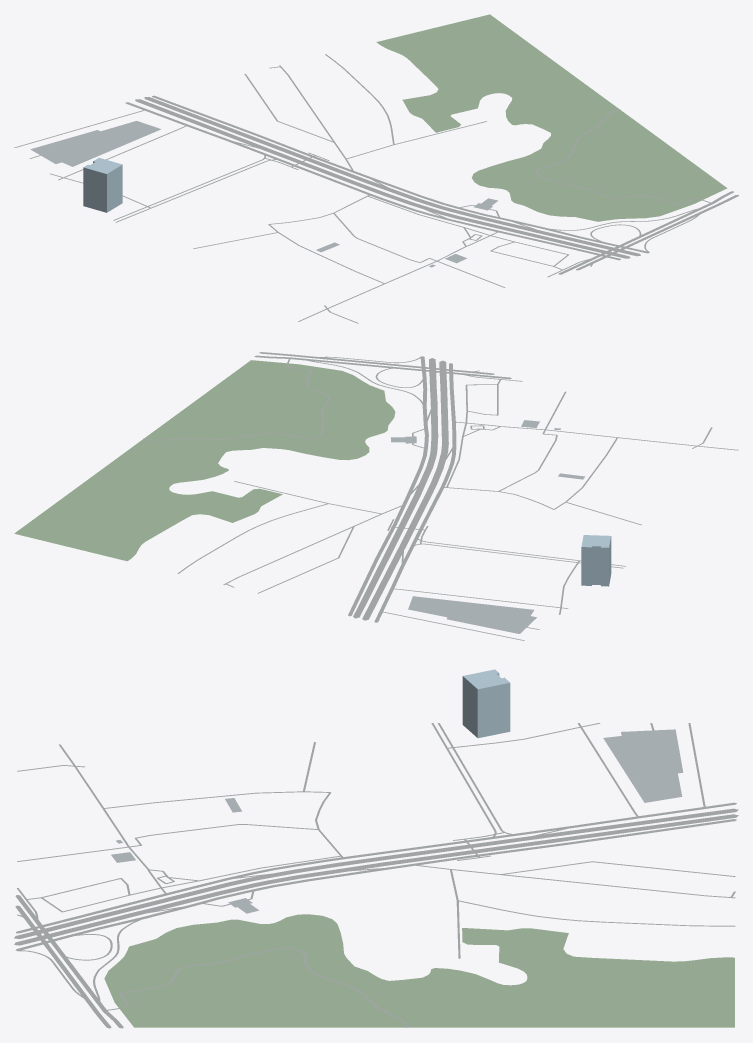
File: -20_27-known-coarse.glb
3 views of the same model, one above another, from view 1: azimuth 30°, elevation 25°; view 2: azimuth 150°, elevation 25°; view 3: azimuth 270°, elevation 25° (orthographic). The views are drawn at different scales.
Size of the model in its own units: 1018 by 75 by 1006.
